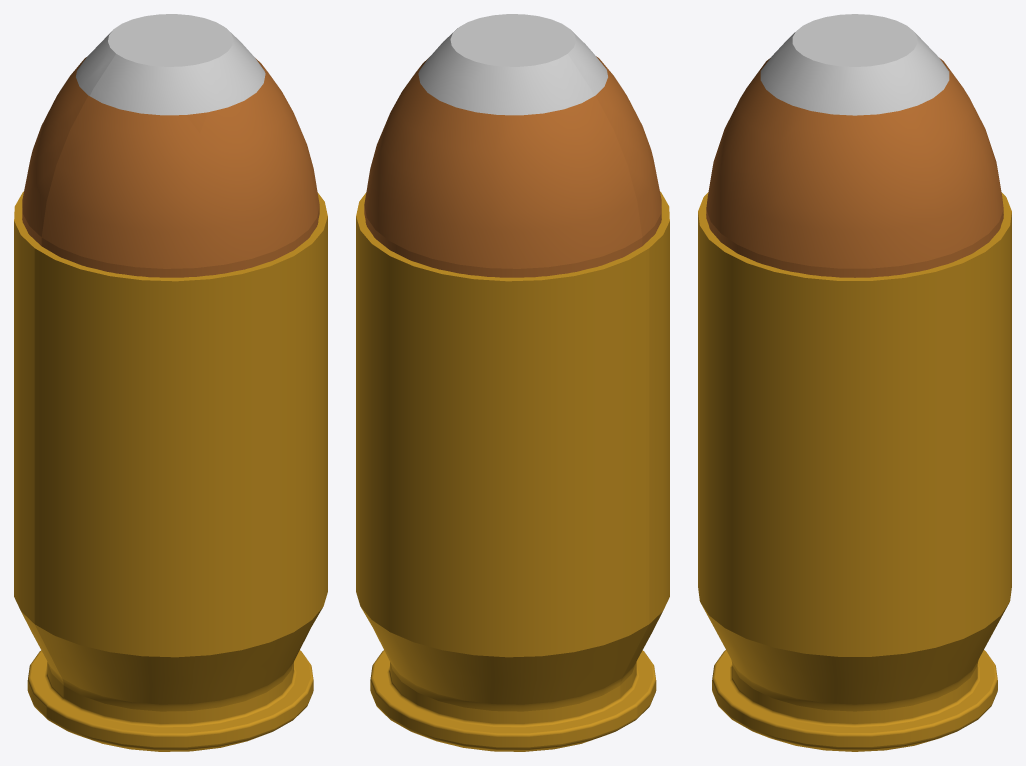
3 renders of one model, left to right at view 1: azimuth 30°, elevation 25°; view 2: azimuth 150°, elevation 25°; view 3: azimuth 270°, elevation 25°, orthographic.
Visible parts, largest first — view 1: o4_IndexedFaceSet, o12_IndexedFaceSet, o12_IndexedFaceSet.001; view 2: o4_IndexedFaceSet, o12_IndexedFaceSet, o12_IndexedFaceSet.001; view 3: o4_IndexedFaceSet, o12_IndexedFaceSet, o12_IndexedFaceSet.001.
Boxes of the visible parts, bbox=[...] form: o4_IndexedFaceSet: bbox=[14, 191, 327, 751]; o12_IndexedFaceSet: bbox=[22, 57, 319, 277]; o12_IndexedFaceSet.001: bbox=[76, 14, 265, 115]; o4_IndexedFaceSet: bbox=[356, 191, 669, 751]; o12_IndexedFaceSet: bbox=[364, 56, 661, 277]; o12_IndexedFaceSet.001: bbox=[418, 14, 607, 115]; o4_IndexedFaceSet: bbox=[698, 192, 1011, 751]; o12_IndexedFaceSet: bbox=[706, 58, 1003, 277]; o12_IndexedFaceSet.001: bbox=[760, 14, 949, 115].
Size of the model in its own units: 13.36 by 31.01 by 13.38.
